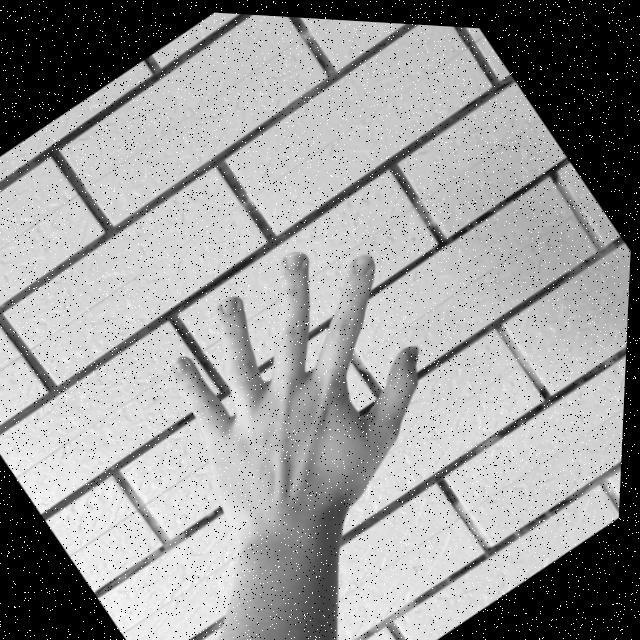hand: (118, 199, 486, 566)
